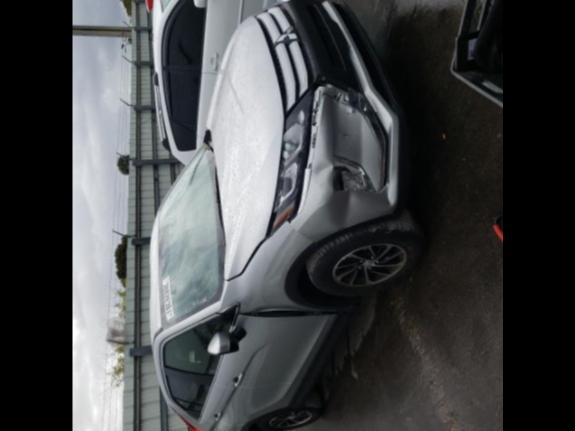Broken part: (305, 76, 388, 193), (225, 235, 273, 282), (332, 154, 375, 192), (235, 306, 347, 318), (284, 217, 316, 245)
Dent: (328, 191, 350, 226), (247, 305, 314, 312), (312, 160, 332, 176), (327, 169, 333, 188)
Missing part: (335, 169, 363, 189)
